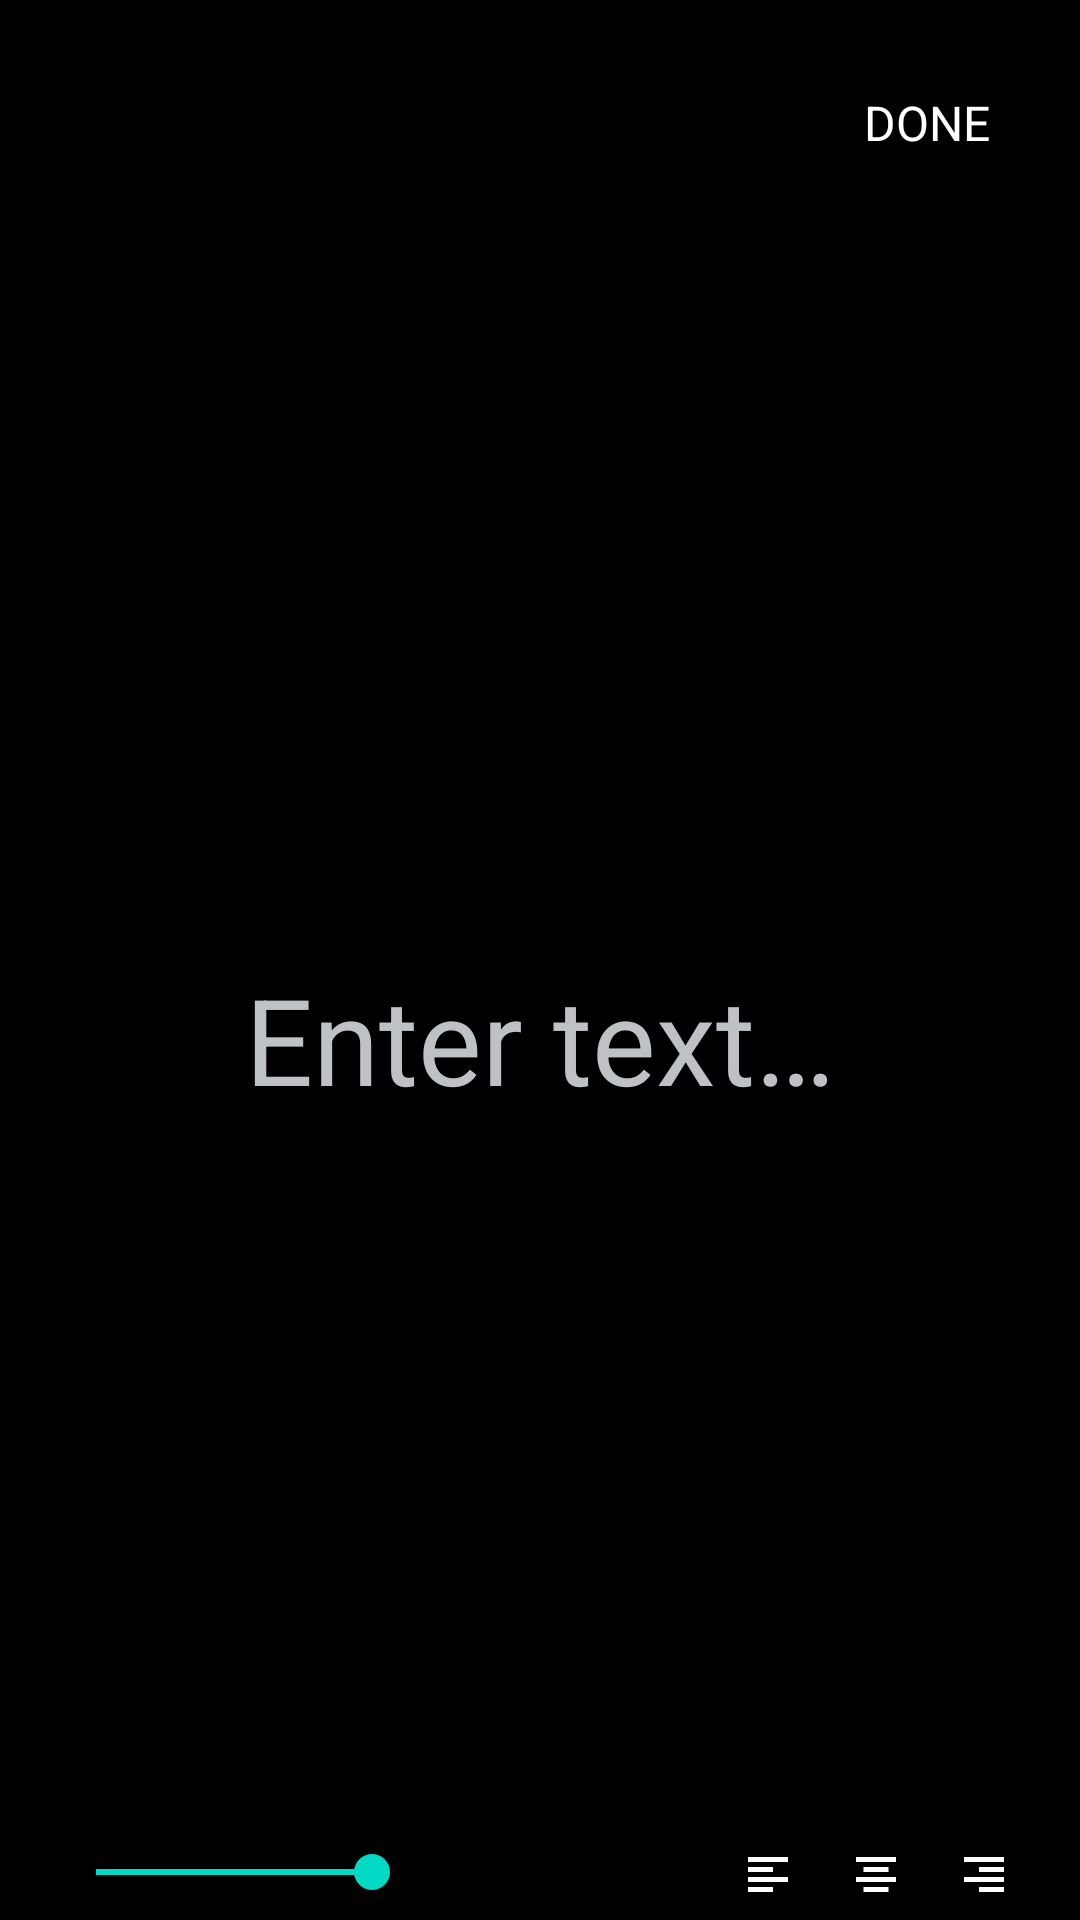

Locate icon controls on the screen. Image size 1080px x 1920px, boxes as (x1, y1, x2, y2).
text align center: (856, 1857, 896, 1892)
text align left: (748, 1857, 788, 1892)
text align right: (964, 1857, 1004, 1892)
